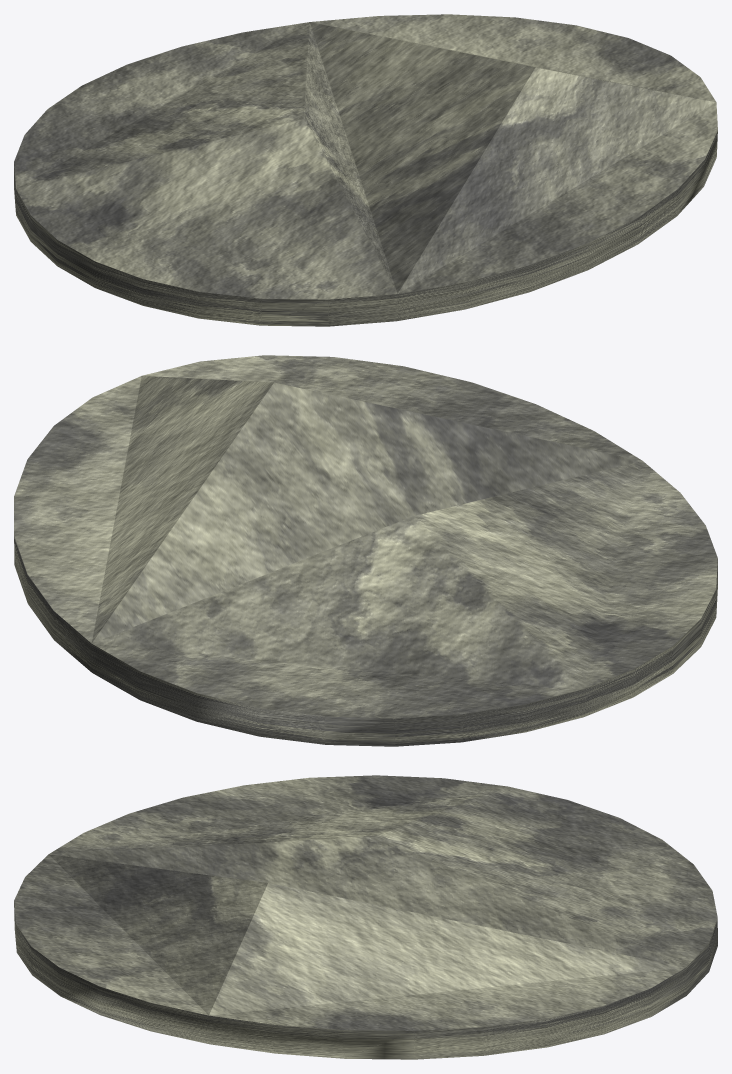
File: Field2.fbx
3 views of the same model, one above another, from view 1: azimuth 30°, elevation 25°; view 2: azimuth 150°, elevation 25°; view 3: azimuth 270°, elevation 25° (orthographic). The views are drawn at different scales.
Visible parts, largest first — view 1: CollisionFrame; view 2: CollisionFrame; view 3: CollisionFrame.
Boxes of the visible parts, x1=… form: CollisionFrame: x1=14, y1=14, x2=717, y2=326; CollisionFrame: x1=14, y1=355, x2=717, y2=746; CollisionFrame: x1=14, y1=775, x2=717, y2=1059.
Bounding box in the file's own units: 4734 × 1002 × 4588.
Materials: 1 (1 with a texture image).
